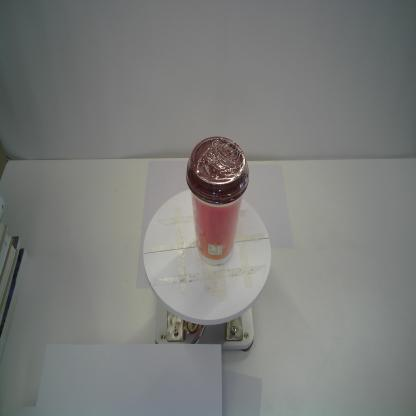Instant Drink: (178, 132, 250, 270)
